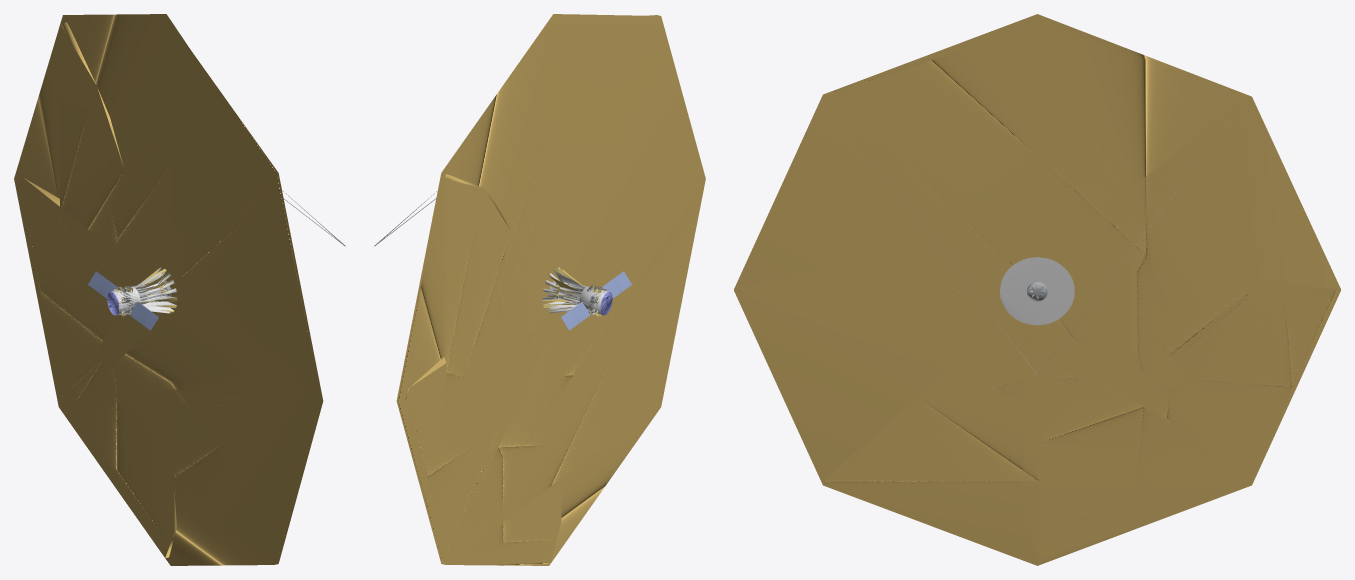
Rendered from solar-sail-concept.glb.
3 views of the same model, side by side, from view 1: azimuth 30°, elevation 25°; view 2: azimuth 150°, elevation 25°; view 3: azimuth 270°, elevation 25° (orthographic).
Visible parts, largest first — view 1: Fake; view 2: Fake; view 3: Fake.
Boxes of the visible parts, x1,y1,x2,y2 form: Fake: (14,14,345,565); Fake: (374,14,705,565); Fake: (734,14,1340,565).
Bounding box in the file's own units: 5.04 × 11.45 × 11.45.
Materials: 1 (1 with a texture image).
